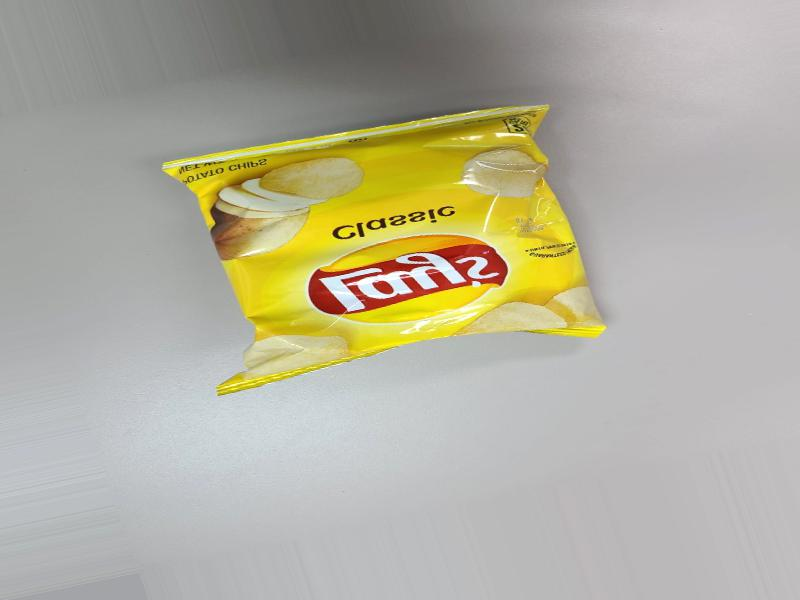lays: (166, 121, 555, 383)
